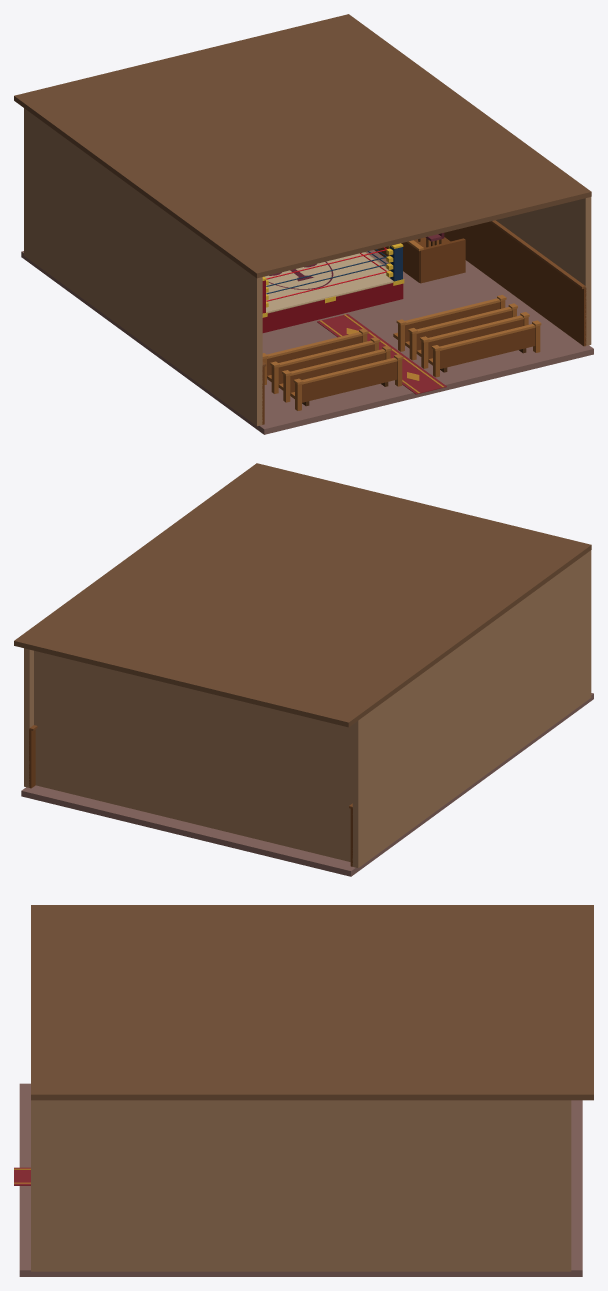
The model's file is courtroom_stage.glb.
3 renders of one model, top to bottom at view 1: azimuth 30°, elevation 25°; view 2: azimuth 150°, elevation 25°; view 3: azimuth 270°, elevation 25°, orthographic. The views are drawn at different scales.
Parts seen in each view (by area): view 1: Ceiling, Left_Wall, Court_Floor, Right_Wainscot, Right_Wall, Ring_Canvas, Ring_Apron_Block, Pew_Left_4_Back, Pew_Right_4_Back, Right_Gallery_End, Aisle_Red_Carpet, Pew_Left_2_Back (+7 smaller); view 2: Ceiling, Back_Plaster, Left_Wall, Court_Floor, Right_Wall; view 3: Ceiling, Right_Wall, Court_Floor.
Boxes of the visible parts, x1,y1,x2,y2 form: Ceiling: [14, 14, 591, 278]; Left_Wall: [24, 108, 262, 426]; Court_Floor: [21, 250, 593, 434]; Right_Wainscot: [444, 221, 586, 346]; Right_Wall: [496, 197, 591, 345]; Ring_Canvas: [264, 252, 393, 312]; Ring_Apron_Block: [262, 283, 403, 332]; Pew_Left_4_Back: [302, 361, 397, 402]; Pew_Right_4_Back: [440, 328, 535, 368]; Right_Gallery_End: [419, 238, 465, 283]; Aisle_Red_Carpet: [317, 314, 446, 394]; Pew_Left_2_Back: [278, 344, 374, 384]; Ceiling: [14, 463, 591, 727]; Back_Plaster: [34, 650, 352, 861]; Left_Wall: [352, 550, 591, 867]; Court_Floor: [21, 693, 593, 876]; Right_Wall: [24, 648, 33, 787]; Ceiling: [31, 905, 593, 1100]; Right_Wall: [31, 1100, 571, 1271]; Court_Floor: [19, 1083, 582, 1276].
Size of the model in its own units: 19.9 by 9 by 25.75.
